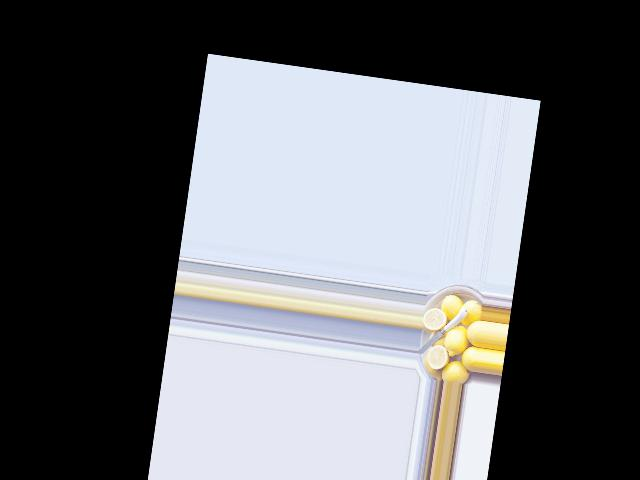lemon: (438, 356, 471, 384)
